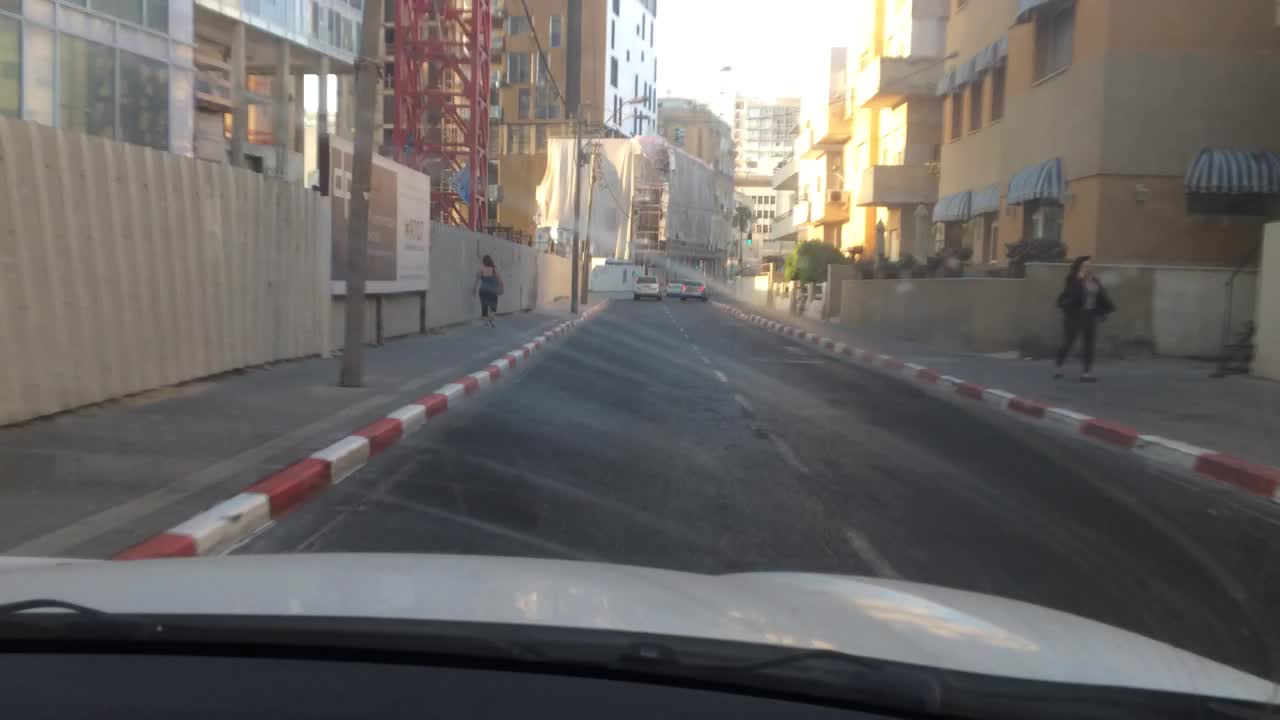car: (633, 274, 661, 298), (679, 278, 708, 301), (665, 277, 680, 296)
person: (1051, 254, 1117, 383), (471, 251, 505, 329)
traffic light: (745, 229, 753, 244)
